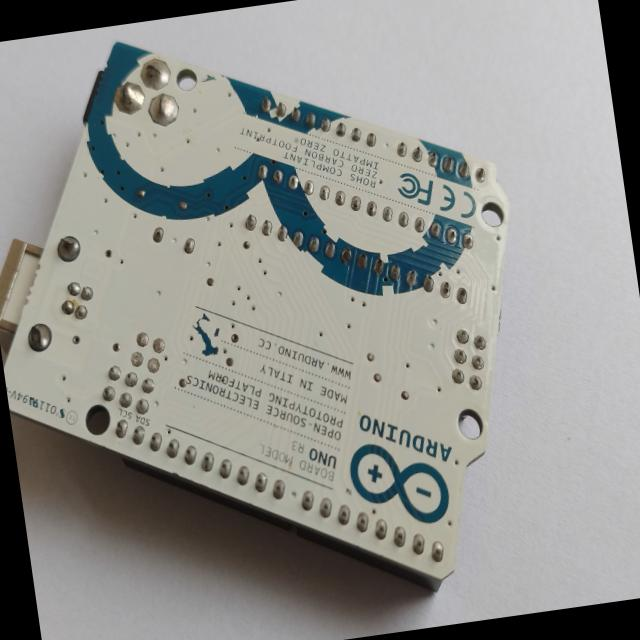arduino: (0, 0, 565, 640)
